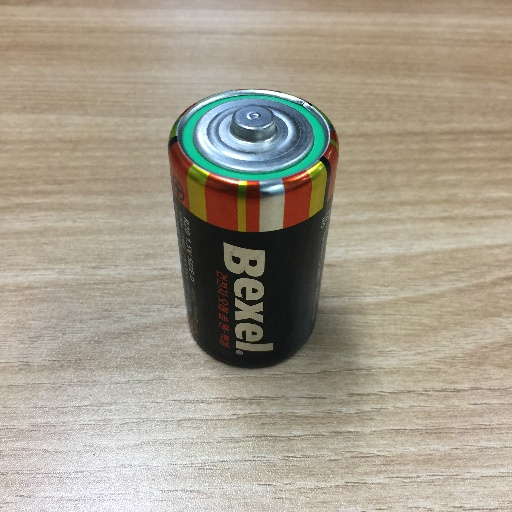Battery_0: (161, 78, 346, 377)
